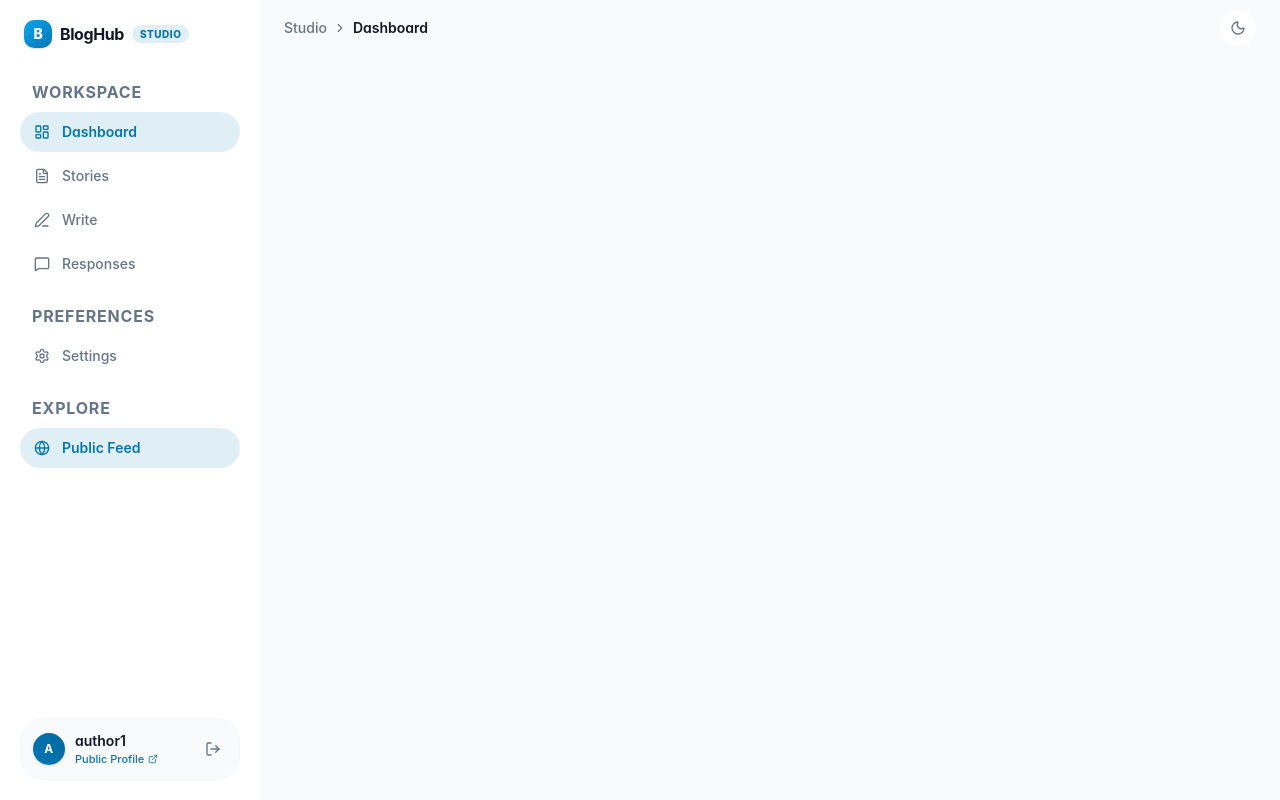
it: WorkspaceLayout Component › renders public profile link in user card and opens sign out confirmation
This screenshot has width=1280, height=800.
Expected: the text "author1" is shown, [75,732,126,749]
Expected: the text "Public Profile" is shown, [75,751,158,767]
Note: Open sign out modal
Click the button named "sign out".
click(213, 749)  # box [197,733,229,765]
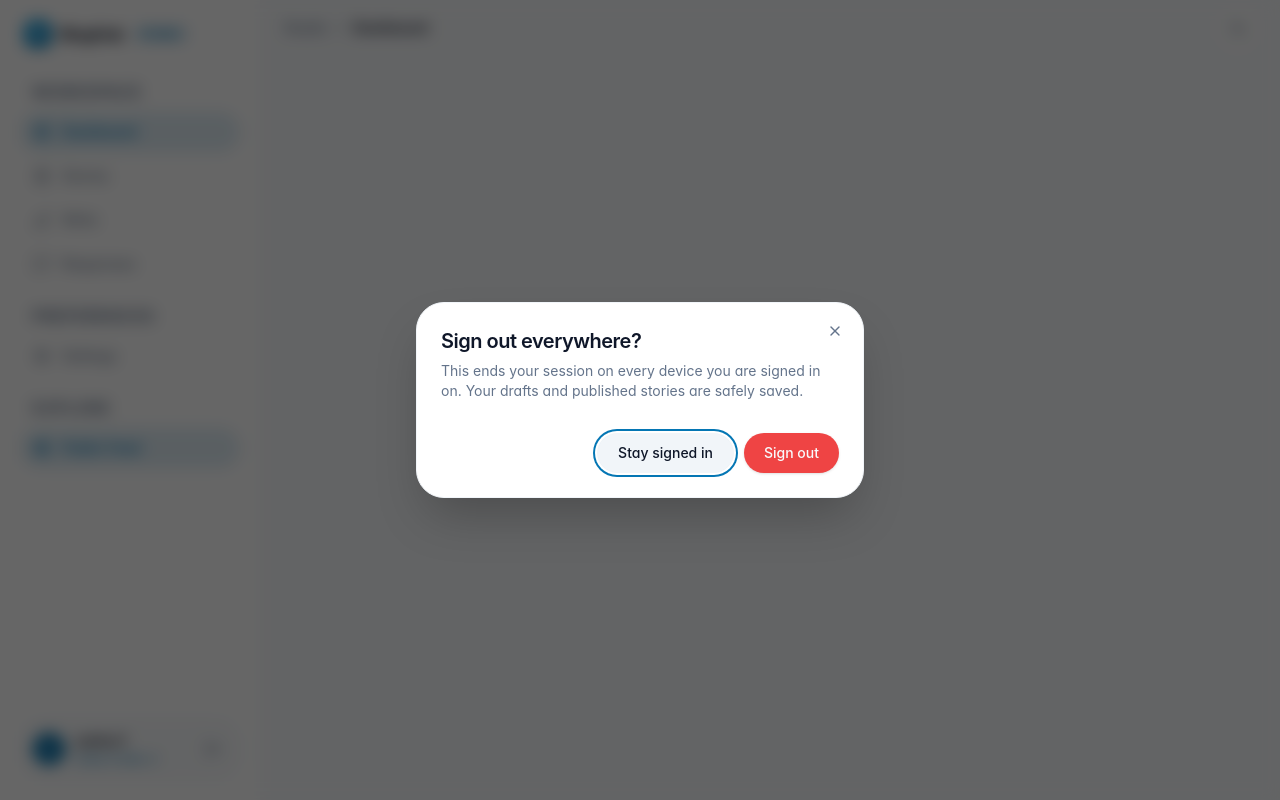
Expected: the heading "Sign out everywhere?" is shown, [441,329,641,353]
Expected: the button "Stay signed in" is shown, [597,433,734,473]
